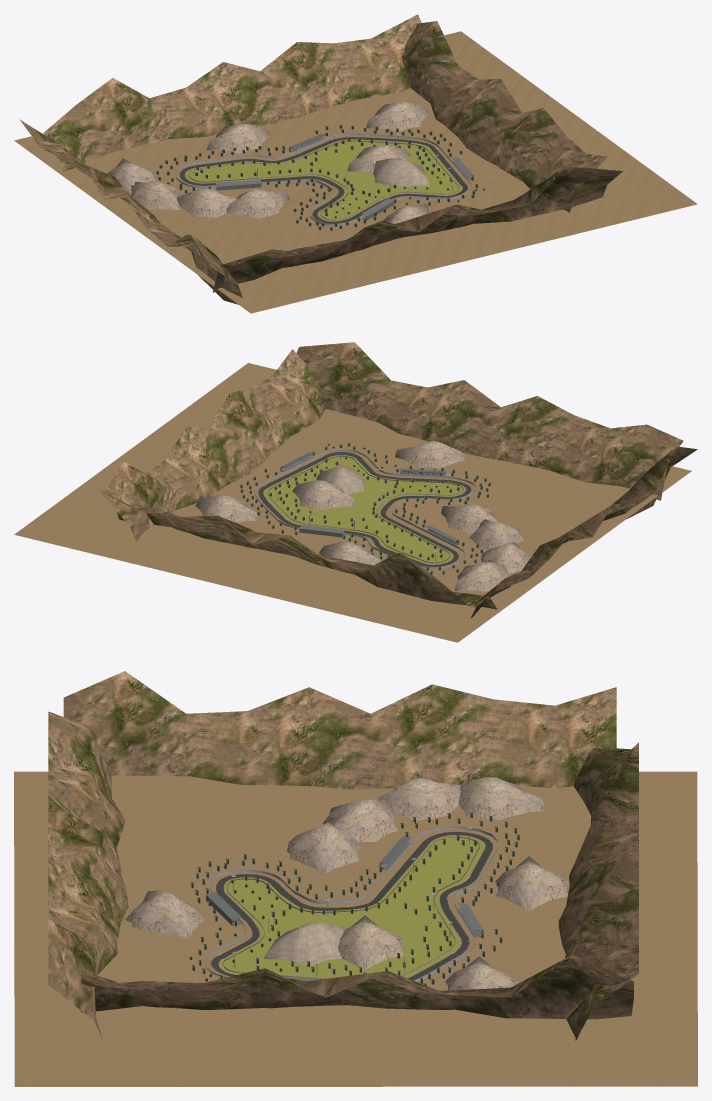
The model's file is Race_Track.FBX.
3 renders of one model, top to bottom at view 1: azimuth 30°, elevation 25°; view 2: azimuth 150°, elevation 25°; view 3: azimuth 270°, elevation 25°, orthographic. The views are drawn at different scales.
Parts seen in each view (by area): view 1: Plane010, polySurface5, polySurface3, Cylinder009, polySurface1, polySurface7, polySurface24; view 2: Plane010, polySurface5, polySurface3, Cylinder009, polySurface1, polySurface7, polySurface24; view 3: polySurface5, Plane010, polySurface3, Cylinder009, polySurface1, polySurface7, polySurface24.
Part boxes in pixels (left/top/right/bottom): Plane010: left=19, top=14, right=622, bottom=304; polySurface5: left=14, top=31, right=697, bottom=313; polySurface3: left=185, top=139, right=462, bottom=221; Cylinder009: left=156, top=125, right=484, bottom=230; polySurface1: left=179, top=137, right=467, bottom=223; polySurface7: left=175, top=133, right=472, bottom=225; polySurface24: left=215, top=133, right=473, bottom=220; Plane010: left=98, top=342, right=697, bottom=618; polySurface5: left=14, top=363, right=691, bottom=642; polySurface3: left=263, top=455, right=465, bottom=564; Cylinder009: left=240, top=443, right=490, bottom=574; polySurface1: left=258, top=452, right=471, bottom=566; polySurface7: left=254, top=449, right=475, bottom=568; polySurface24: left=280, top=452, right=459, bottom=545; polySurface5: left=14, top=771, right=697, bottom=1086; Plane010: left=48, top=671, right=638, bottom=1040; polySurface3: left=219, top=835, right=485, bottom=979; Cylinder009: left=189, top=812, right=519, bottom=985; polySurface1: left=211, top=831, right=493, bottom=980; polySurface7: left=205, top=826, right=497, bottom=981; polySurface24: left=206, top=836, right=483, bottom=980.
Bounding box in the file's own units: 531 × 76.67 × 464.
